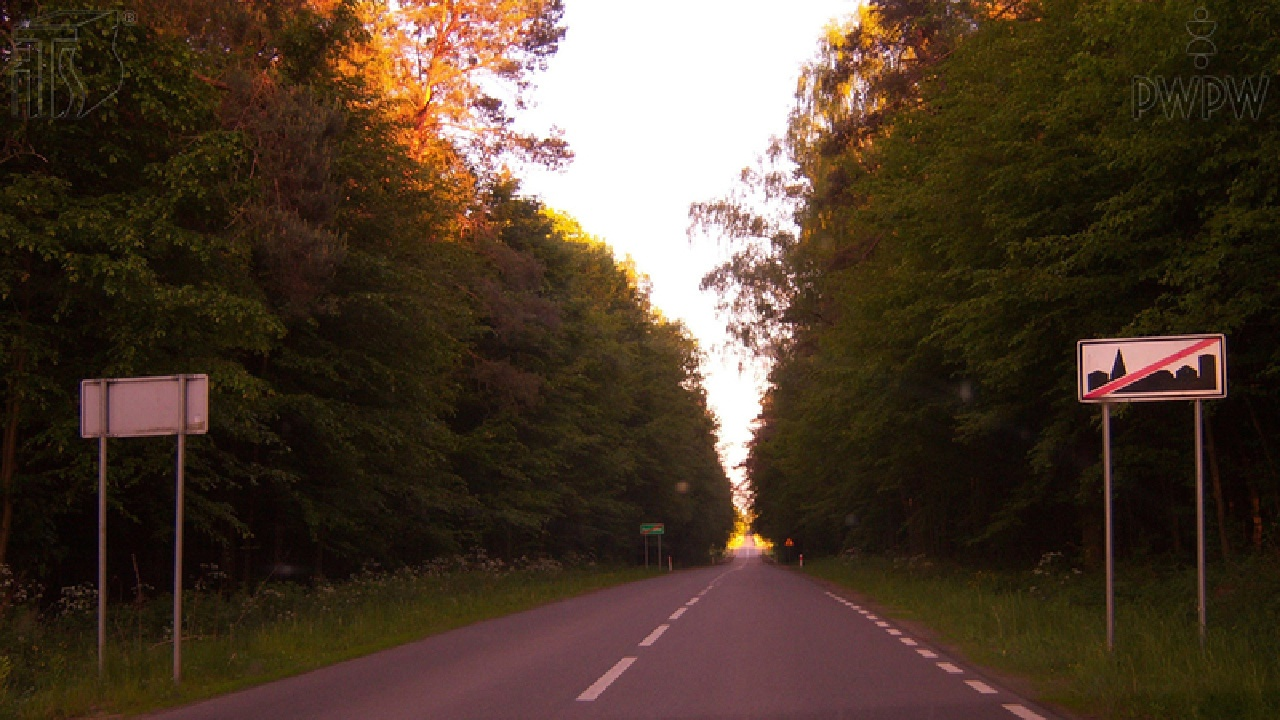D43: (1077, 334, 1228, 400)
